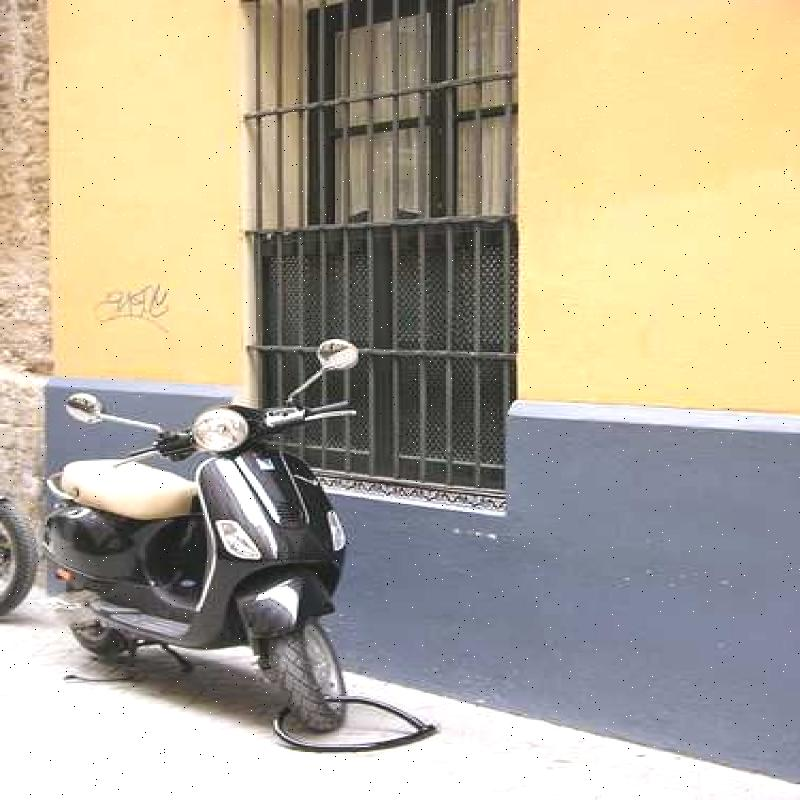bike: (0, 343, 380, 723)
